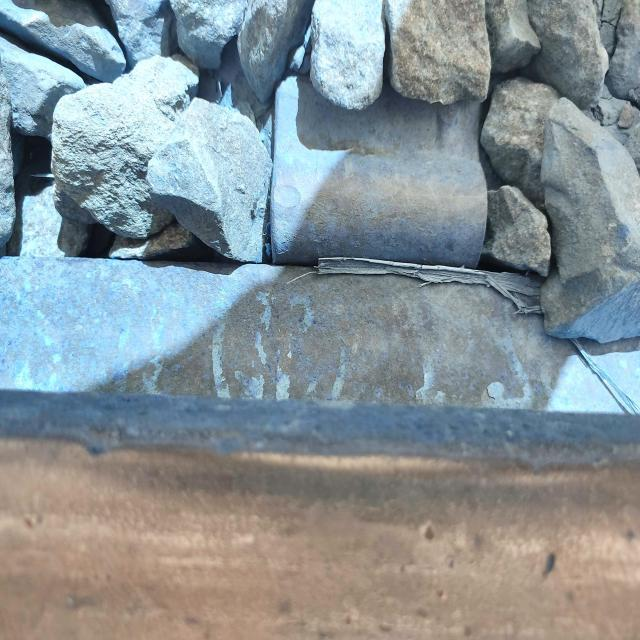Missing Fastener: (268, 77, 486, 274)
